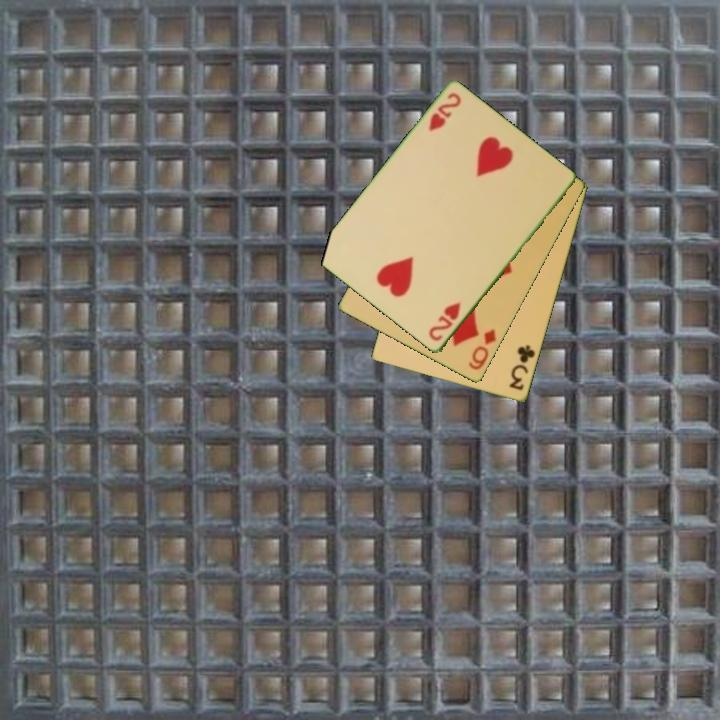2h: (425, 89, 464, 135), (425, 299, 464, 344)
3c: (506, 342, 538, 394)
6d: (465, 326, 499, 373)
